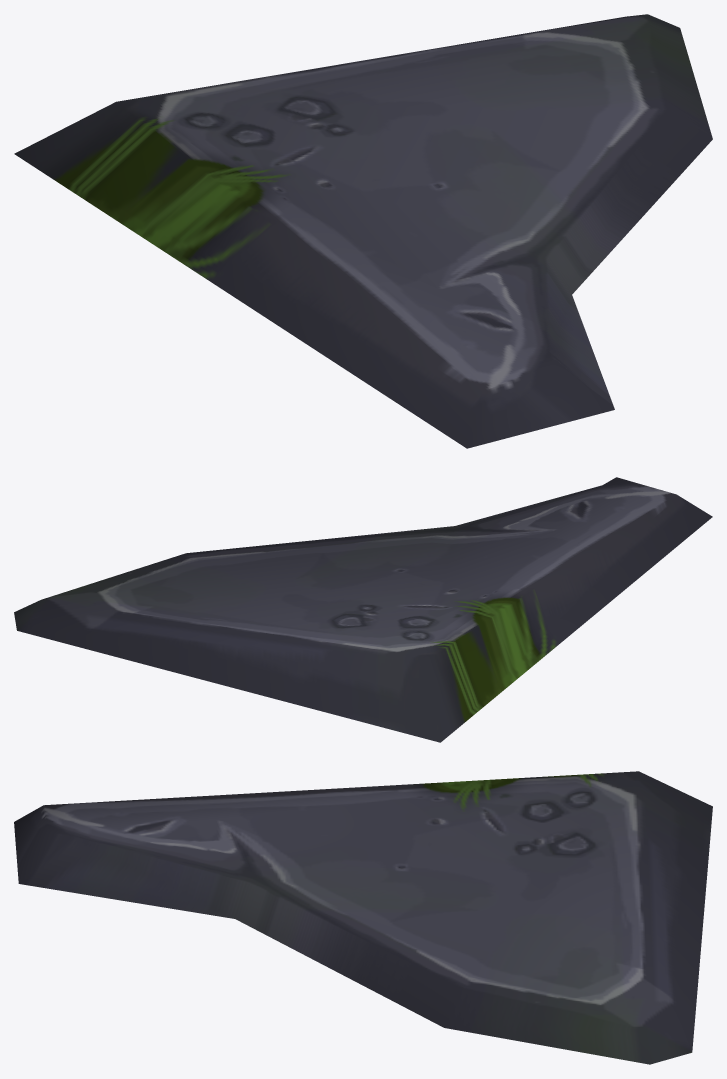
File: MOD_Floor_01_O_singlestone_broken_6.fbx
The picture shows the model from 3 angles, top to bottom: view 1: azimuth 30°, elevation 25°; view 2: azimuth 150°, elevation 25°; view 3: azimuth 270°, elevation 25°; orthographic projection. The views are drawn at different scales.
Visible parts, largest first — view 1: MOD_Floor_01_O_singlestone_broken_6; view 2: MOD_Floor_01_O_singlestone_broken_6; view 3: MOD_Floor_01_O_singlestone_broken_6.
Part boxes in pixels (left/top/right/bottom): MOD_Floor_01_O_singlestone_broken_6: left=14, top=14, right=712, bottom=448; MOD_Floor_01_O_singlestone_broken_6: left=14, top=477, right=712, bottom=742; MOD_Floor_01_O_singlestone_broken_6: left=14, top=771, right=712, bottom=1064.
Size of the model in its own units: 87.39 by 9.32 by 100.
